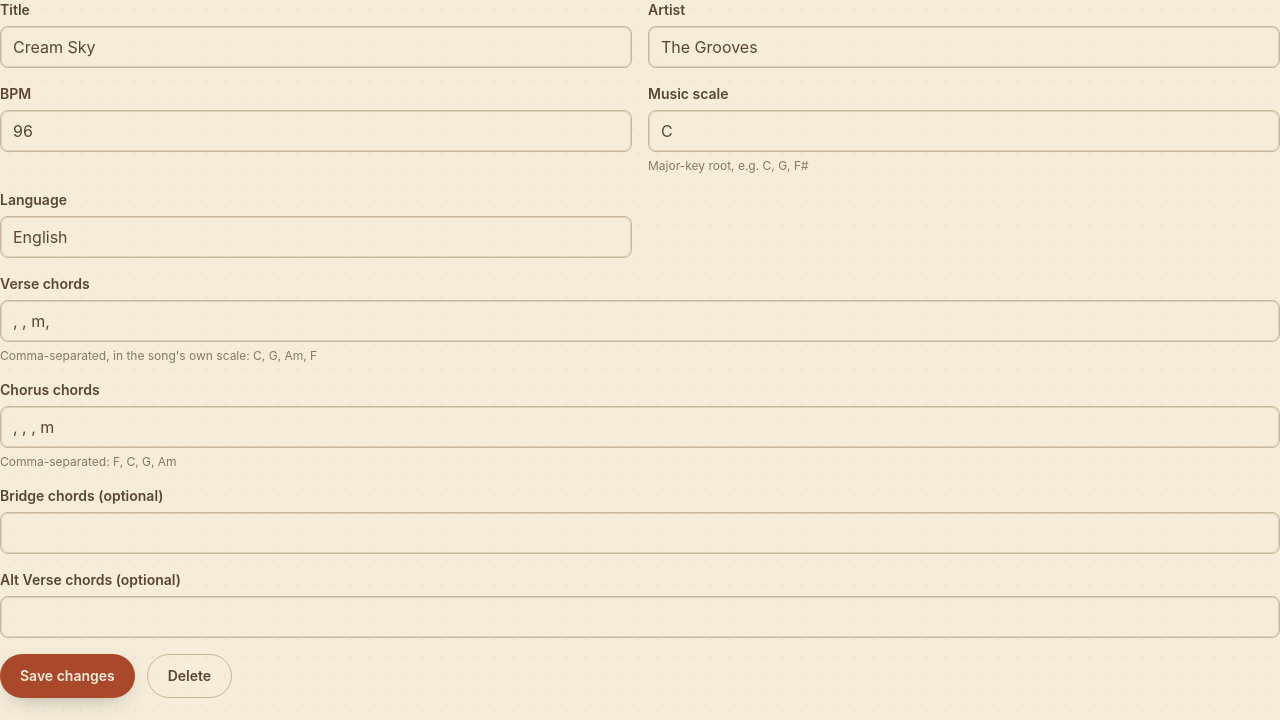
Test: SongForm delete › clears the inline error after Cancel following a failed delete
This screenshot has width=1280, height=720.
What coordinates should you click on to do the following:
click the button with aria-label "delete cream sky"
I would click on:
 (189, 676)
Its box is [147,654,232,698].
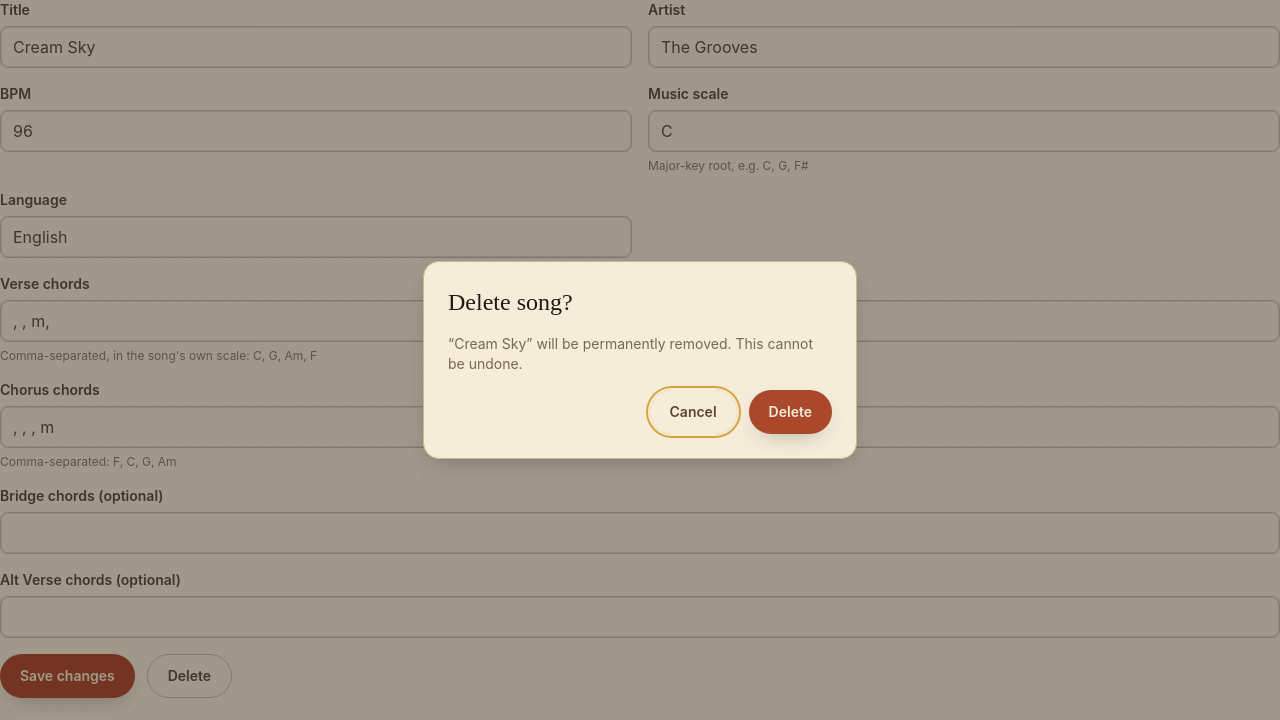
What coordinates should you click on to do the following:
click the button "Delete"
I would click on:
 (790, 412)
Its box is [749,390,832,434].
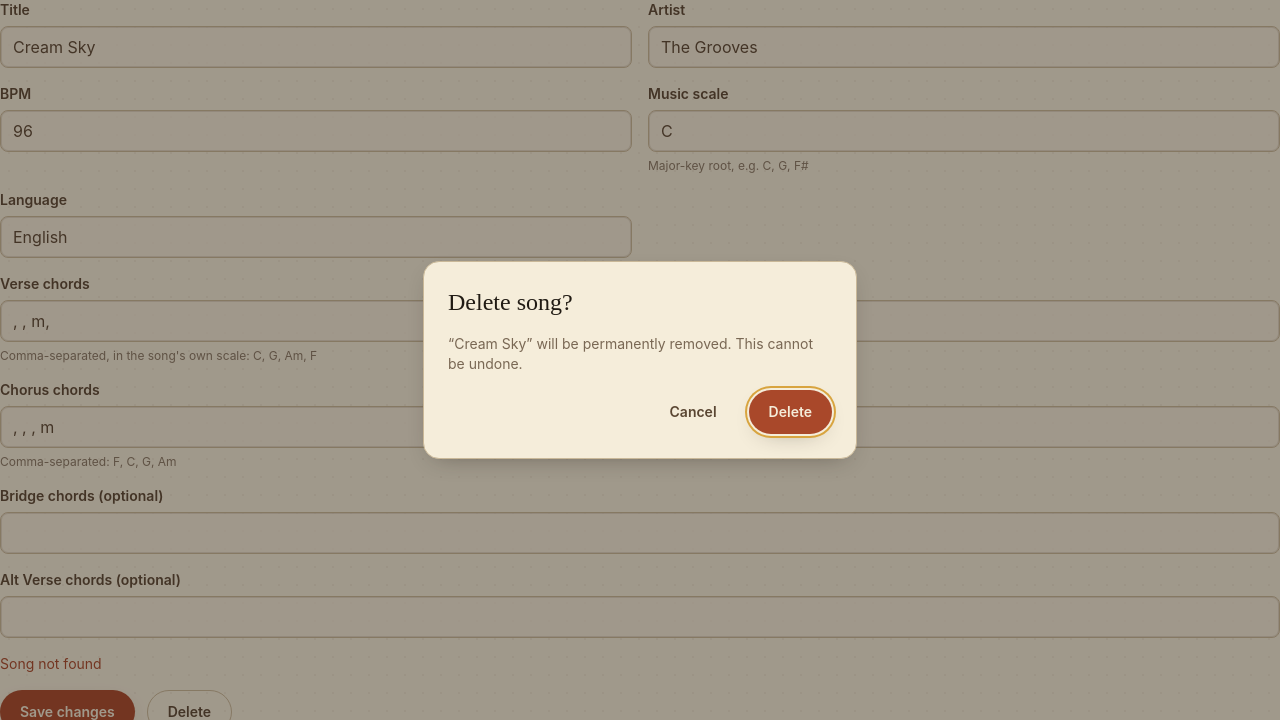
expect the message reads "Song not found": met, box [0,655,102,672]
What coordinates should you click on to do the following:
click the button "Cancel"
I would click on:
 (693, 412)
Its box is [650,390,736,434].
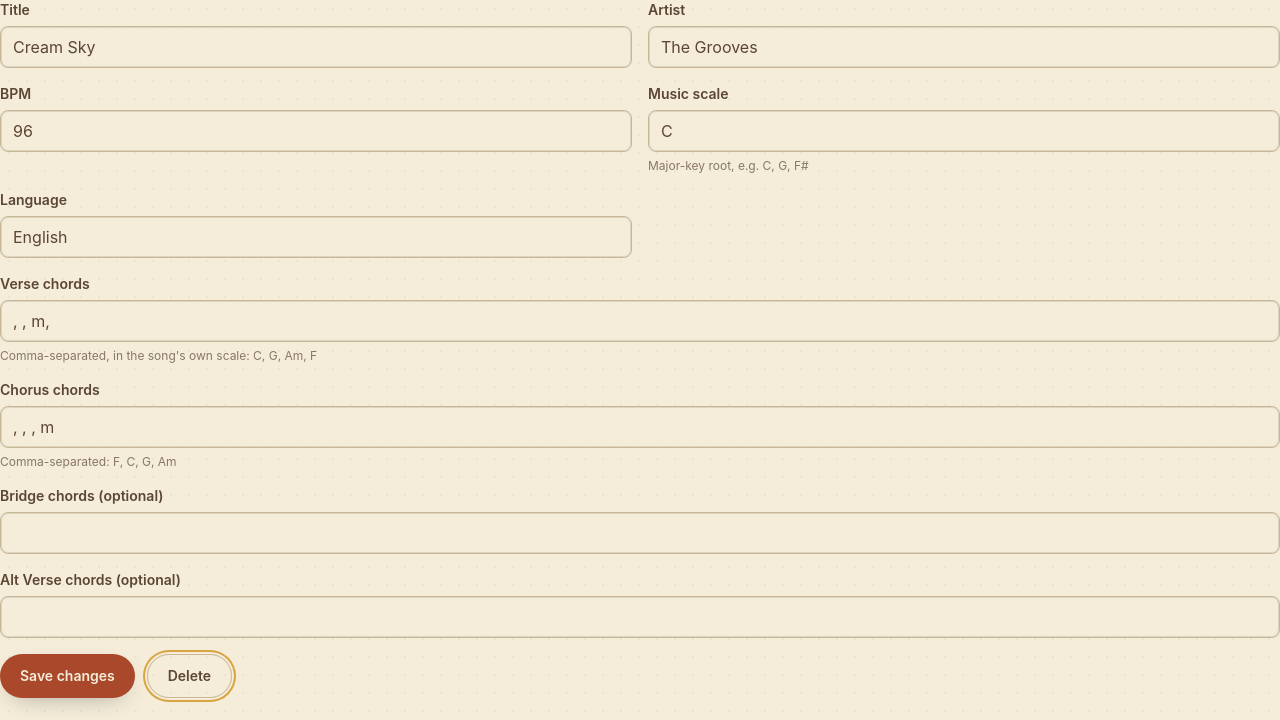
expect the message "Song not found" is gone: met
